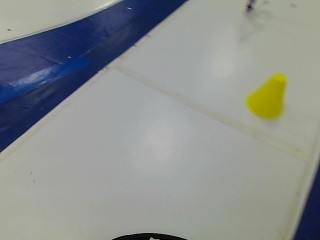cone: (241, 72, 293, 123)
